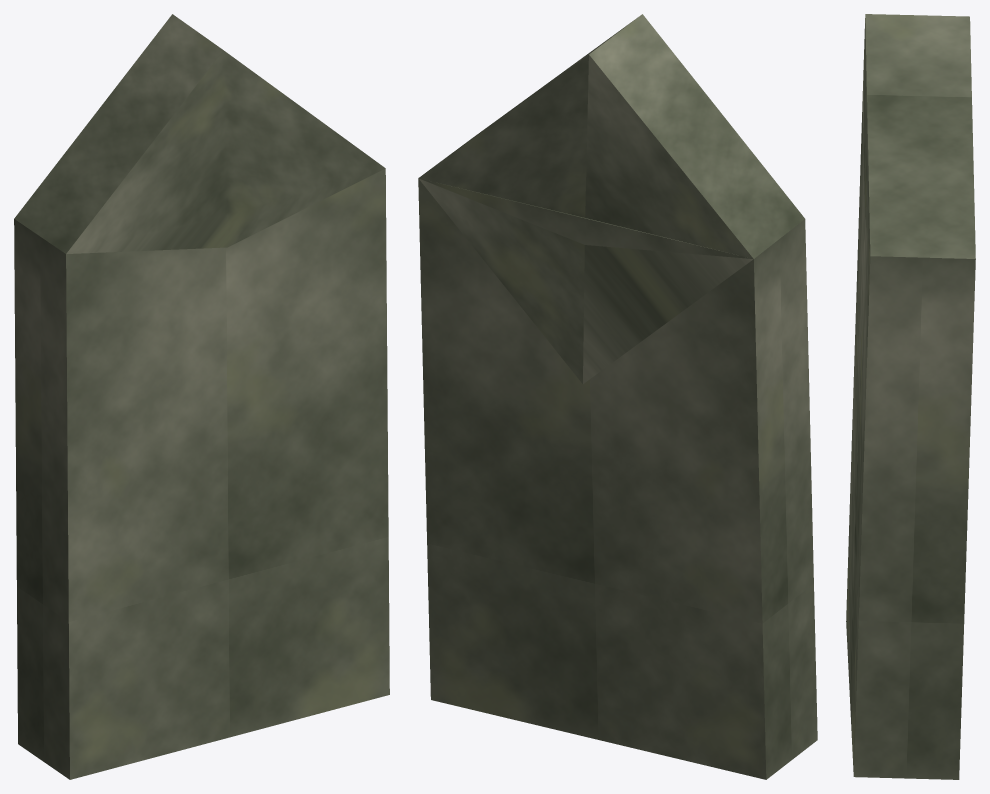
Rendered from Gravestone_1_LOD2.gltf.
3 renders of one model, left to right at view 1: azimuth 30°, elevation 25°; view 2: azimuth 150°, elevation 25°; view 3: azimuth 270°, elevation 25°, orthographic.
Parts seen in each view (by area): view 1: Gravestone_1_LOD2; view 2: Gravestone_1_LOD2; view 3: Gravestone_1_LOD2.
Part boxes in pixels (left/top/right/bottom): Gravestone_1_LOD2: left=14, top=14, right=389, bottom=779; Gravestone_1_LOD2: left=418, top=14, right=817, bottom=779; Gravestone_1_LOD2: left=846, top=14, right=975, bottom=779.
Size of the model in its own units: 0.6643 by 1.32 by 0.2246.
1 material, 1 textured.
